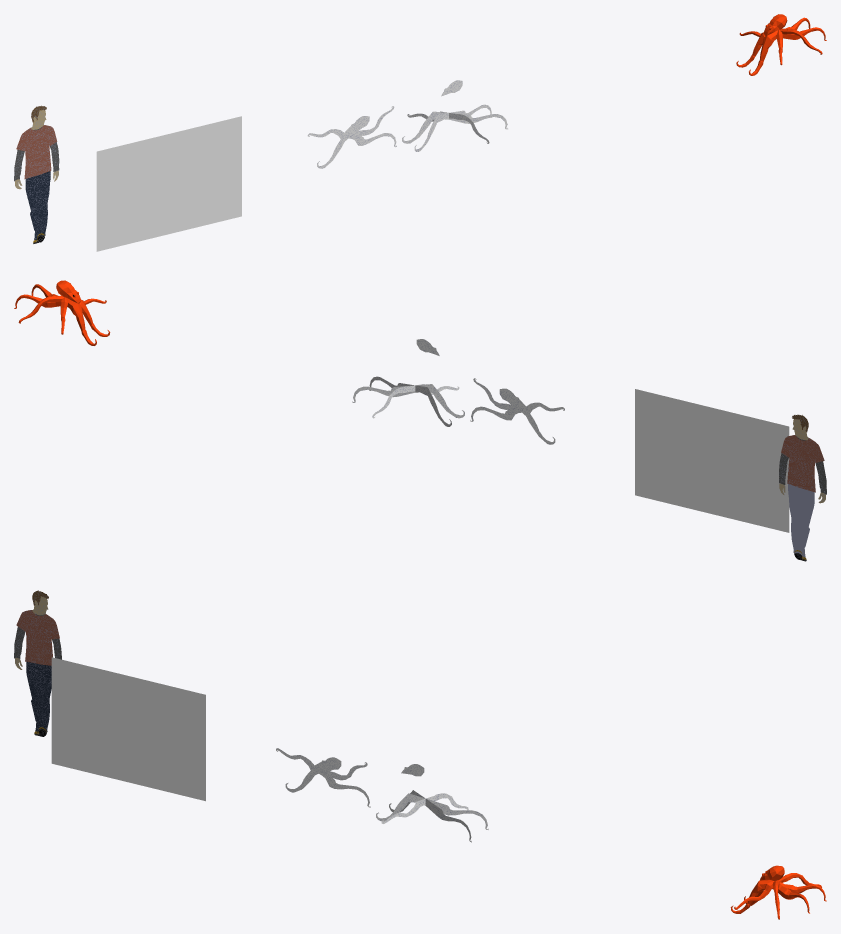
3 views of the same model, one above another, from view 1: azimuth 30°, elevation 25°; view 2: azimuth 150°, elevation 25°; view 3: azimuth 330°, elevation 25° (orthographic). The views are drawn at different scales.
Visible parts, largest first — view 1: image_0, SketchUp (×3), Bryce (×2); view 2: image_0, SketchUp (×3), Bryce (×2); view 3: image_0, SketchUp (×3), Bryce (×2).
Part boxes in pixels (x1,y1,x2,y2): image_0: (96, 116, 241, 251); SketchUp (×3): (307, 14, 826, 168); Bryce (×2): (16, 125, 57, 241); image_0: (635, 389, 789, 532); SketchUp (×3): (14, 280, 564, 444); Bryce (×2): (781, 435, 824, 558); image_0: (51, 657, 205, 801); SketchUp (×3): (276, 748, 826, 919); Bryce (×2): (16, 610, 59, 733).
Bounding box in the file's own units: 424 × 41.77 × 71.19.
